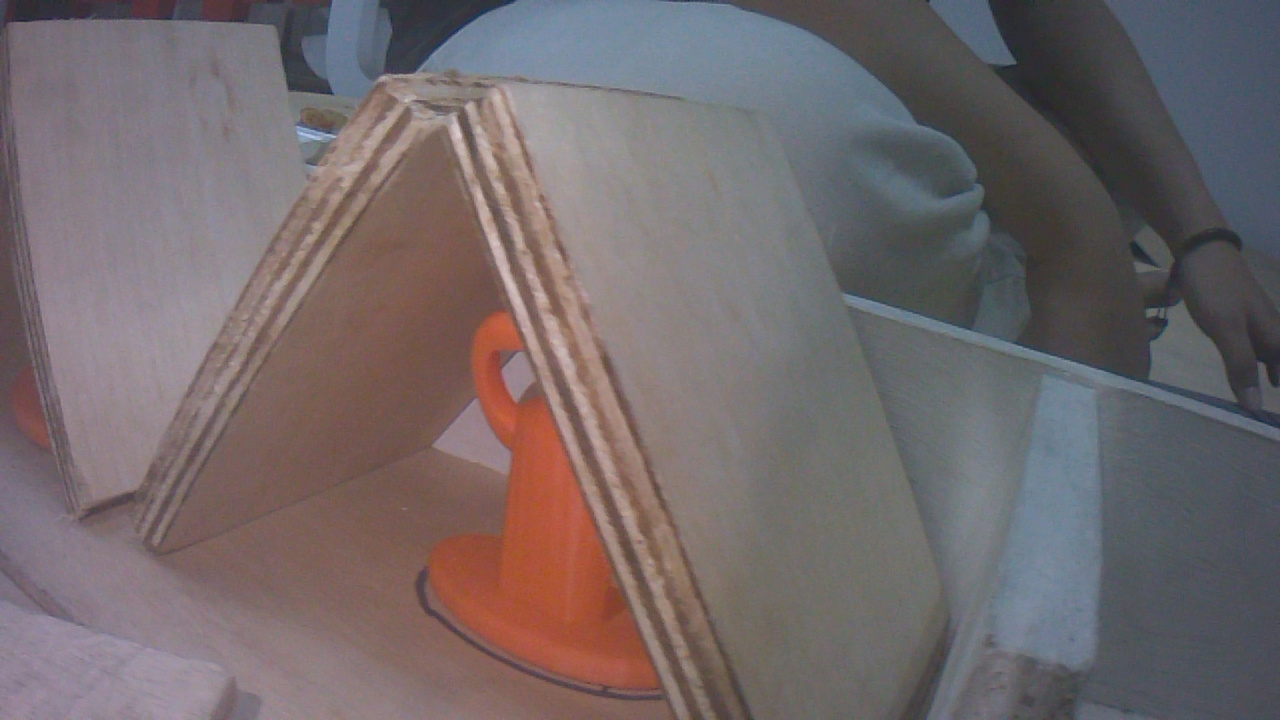real: (425, 289, 670, 692)
